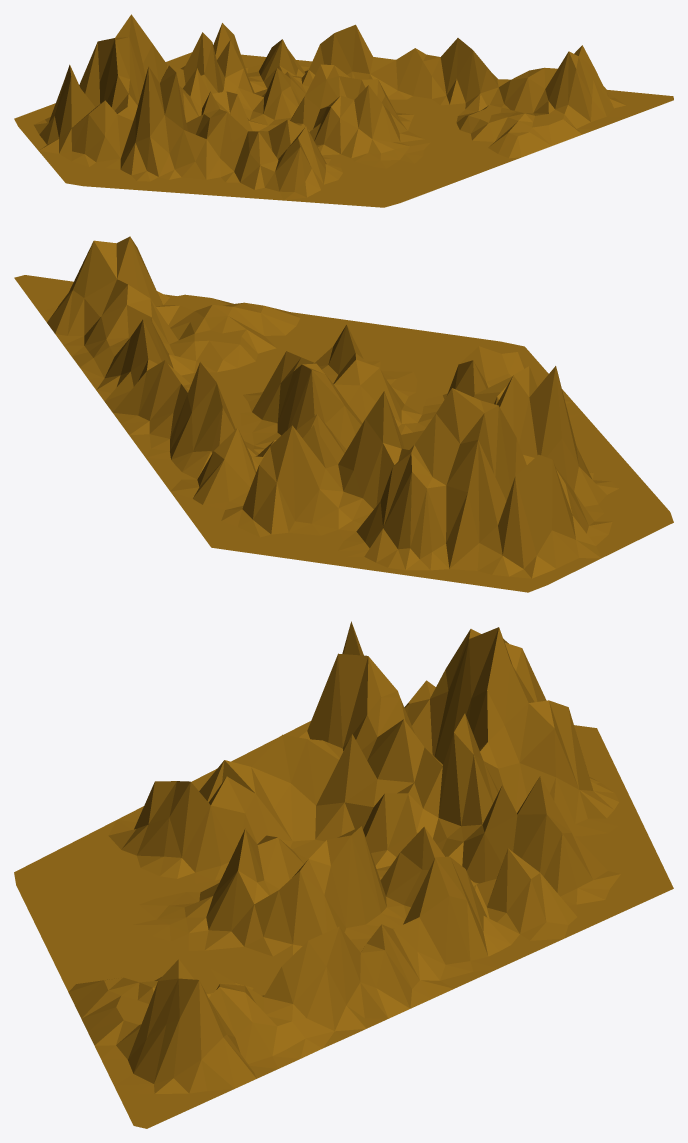
Rendered from map3.FBX.
3 renders of one model, top to bottom at view 1: azimuth 30°, elevation 25°; view 2: azimuth 150°, elevation 25°; view 3: azimuth 270°, elevation 25°, orthographic. The views are drawn at different scales.
Visible parts, largest first — view 1: Line001; view 2: Line001; view 3: Line001.
Part boxes in pixels (bbox=[...]): Line001: bbox=[14, 14, 673, 207]; Line001: bbox=[14, 236, 673, 592]; Line001: bbox=[14, 621, 673, 1128].
Bounding box in the file's own units: 259 × 48.03 × 171.
